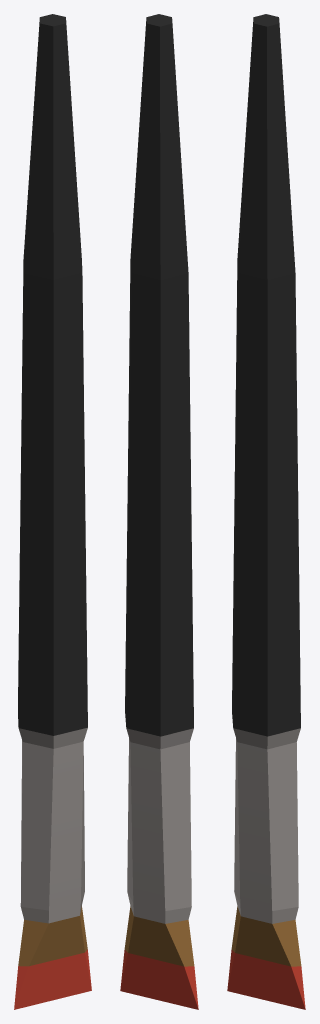
The model's file is tools_paintbrush-flat-paint.fbx.
The picture shows the model from 3 angles, left to right: view 1: azimuth 30°, elevation 25°; view 2: azimuth 150°, elevation 25°; view 3: azimuth 330°, elevation 25°; orthographic projection.
Parts seen in each view (by area): view 1: tools_paintbrush_flat_paint; view 2: tools_paintbrush_flat_paint; view 3: tools_paintbrush_flat_paint.
Boxes of the visible parts, x1,y1,x2,y2 form: tools_paintbrush_flat_paint: (14, 14, 91, 1009); tools_paintbrush_flat_paint: (120, 14, 198, 1009); tools_paintbrush_flat_paint: (227, 14, 305, 1009).
Bounding box in the file's own units: 16.68 × 200 × 12.55.
